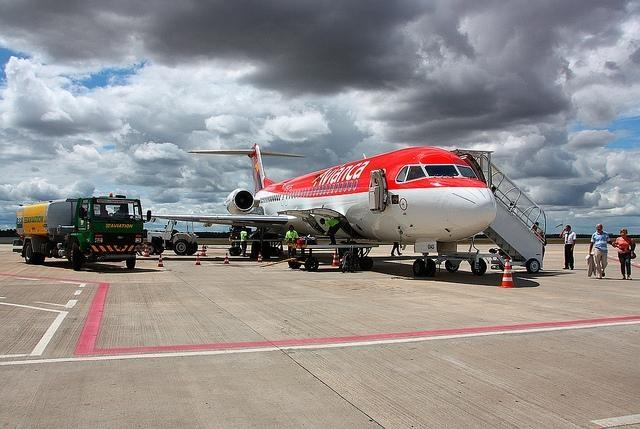truck: (12, 192, 146, 270), (144, 219, 198, 255)
